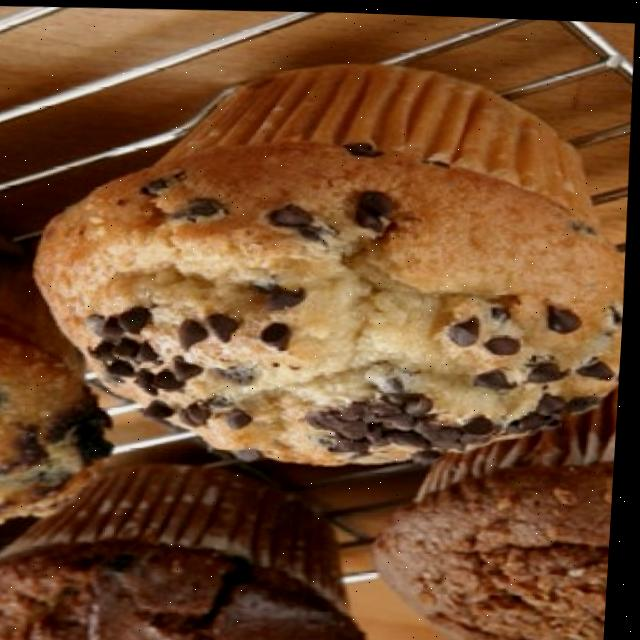炸货点心: (0, 26, 639, 640)
面包点心: (0, 26, 639, 640)
